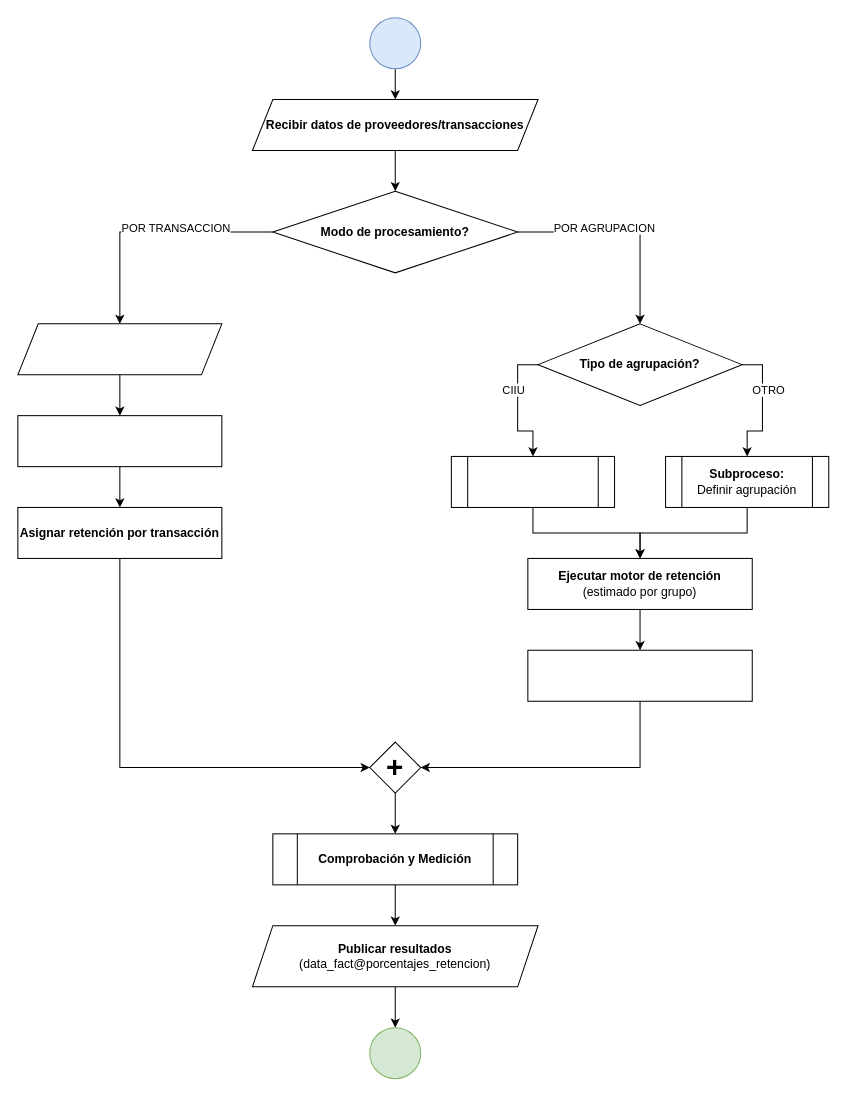
This 847x1097 diagram has some shape labels left out. The shapes that lost their labels are listed below. From the top down, each one's centre as x and y in pixels, then its label:
the point at 119,349: Extraer datos de factura individual
the point at 119,441: Ejecutar motor de retención (por factura)
the point at 532,481: Subproceso: Agrupación CIIU
the point at 639,675: Asignar retención estimada
